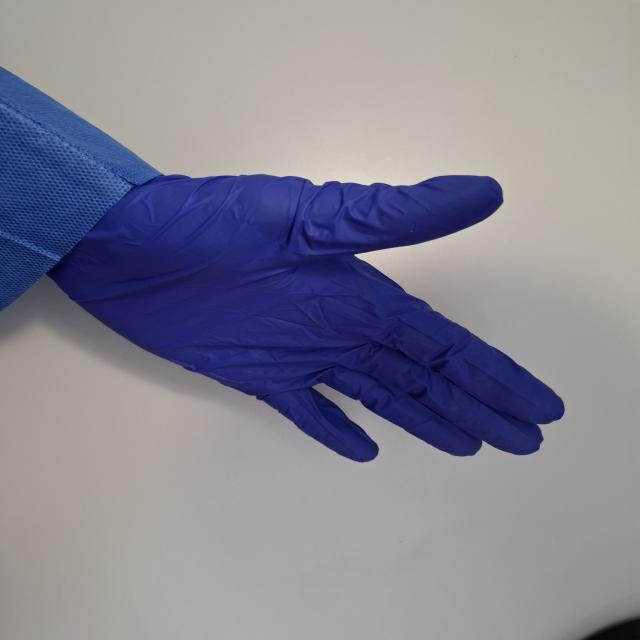glove_on: (42, 165, 567, 458)
